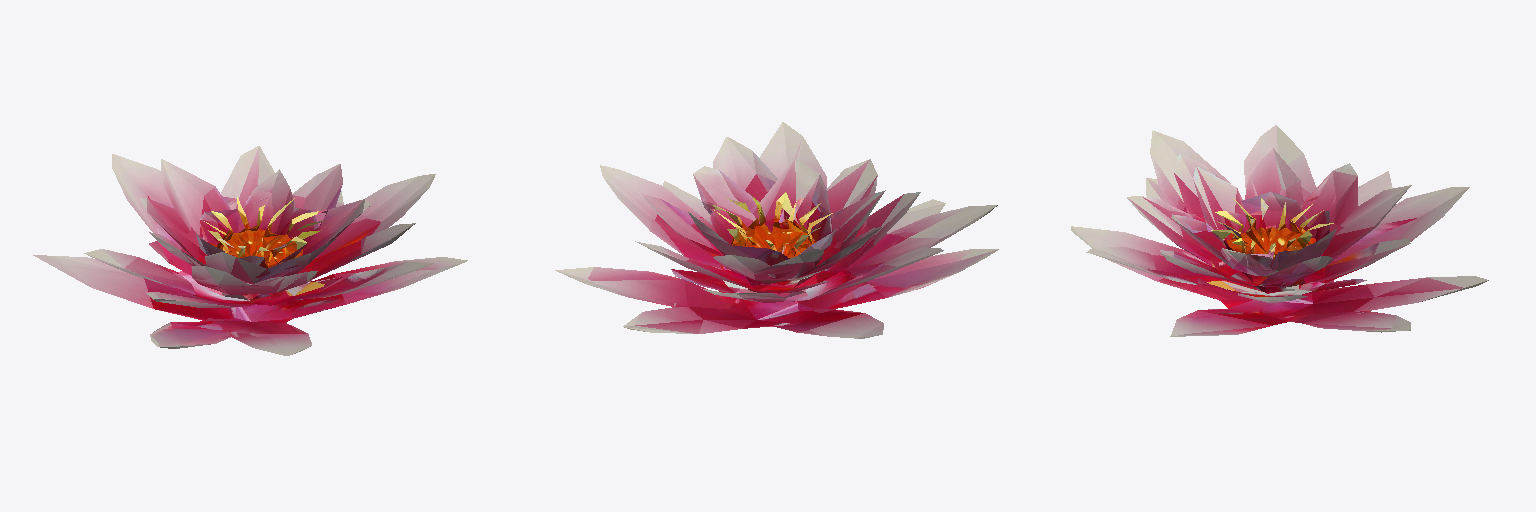
3 views of the same model, side by side, from view 1: azimuth 30°, elevation 25°; view 2: azimuth 150°, elevation 25°; view 3: azimuth 270°, elevation 25° (orthographic).
Visible parts, largest first — view 1: tripo_node_be865321-ba7e-4500-afcd-1ba73c176f60; view 2: tripo_node_be865321-ba7e-4500-afcd-1ba73c176f60; view 3: tripo_node_be865321-ba7e-4500-afcd-1ba73c176f60.
Boxes of the visible parts, box(x1,y1,x2,y2) form: tripo_node_be865321-ba7e-4500-afcd-1ba73c176f60: box(33, 146, 467, 355); tripo_node_be865321-ba7e-4500-afcd-1ba73c176f60: box(555, 122, 998, 338); tripo_node_be865321-ba7e-4500-afcd-1ba73c176f60: box(1071, 125, 1488, 336).
Size of the model in its own units: 0.9574 by 0.298 by 0.9958.
Materials: 1 (1 with a texture image).